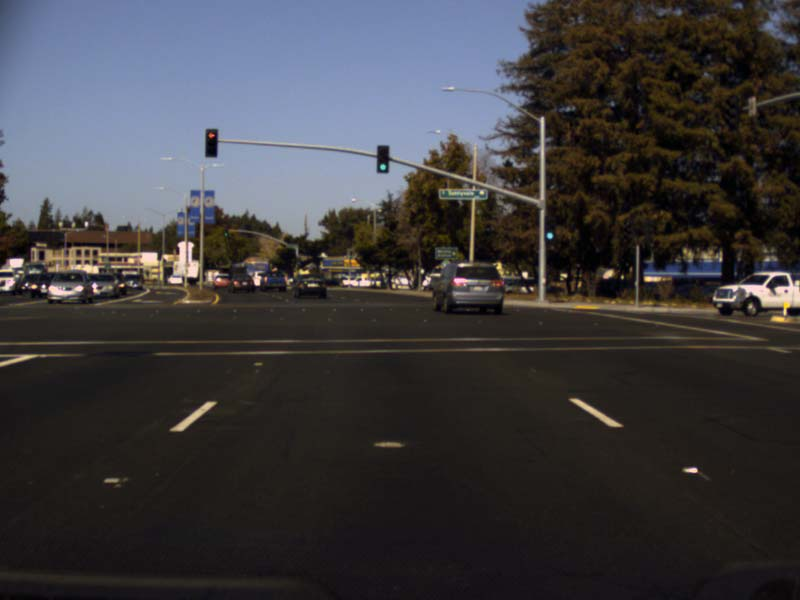Green: (377, 145, 388, 173), (545, 215, 556, 240), (223, 228, 228, 236)
Red: (205, 128, 217, 157)
